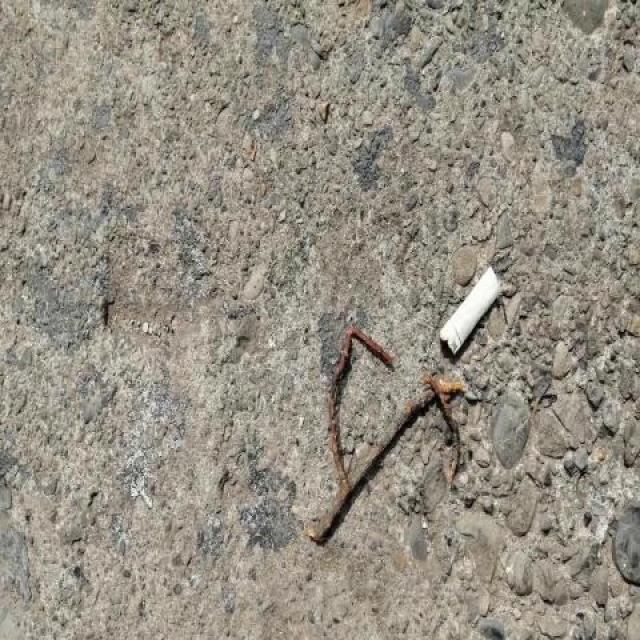non-organic waste: (433, 259, 507, 365)
